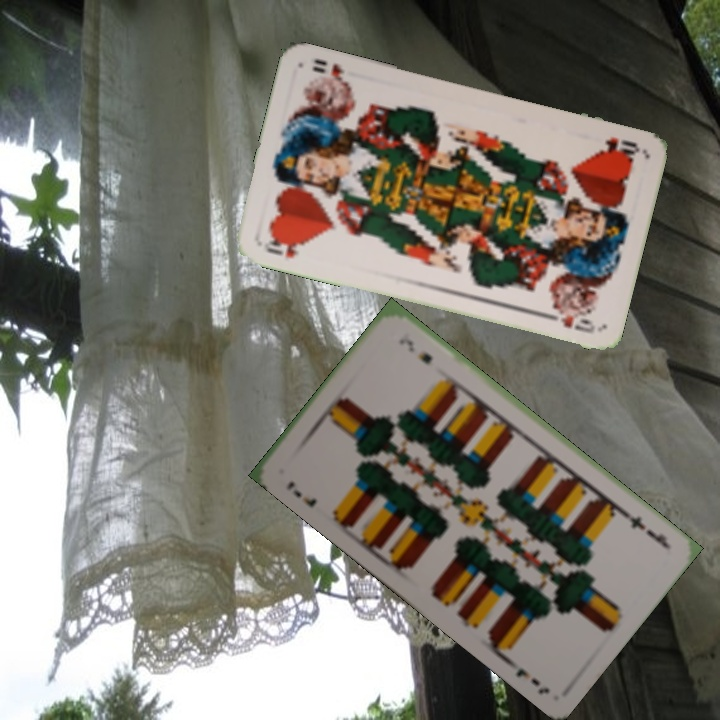E7: (620, 508, 672, 551), (282, 477, 320, 510)
HO: (260, 233, 307, 262), (595, 132, 642, 160)
